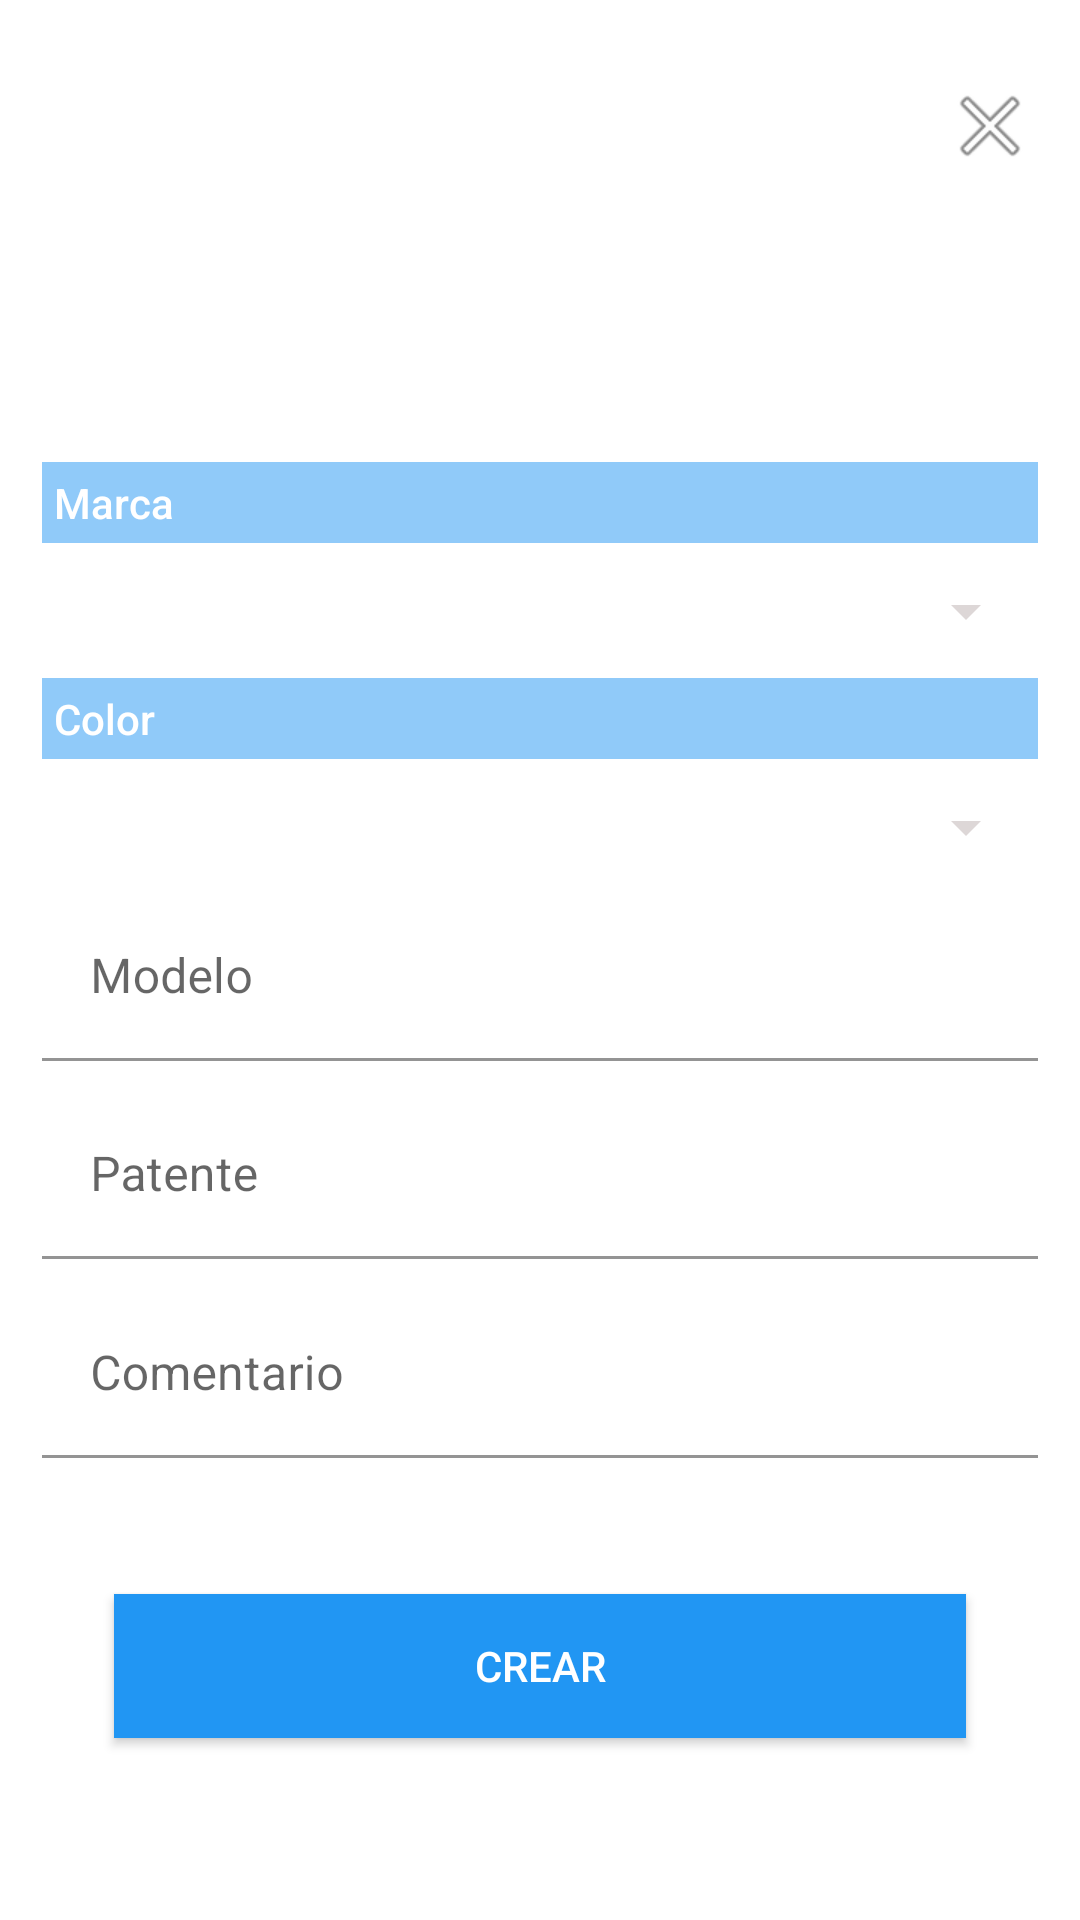

Icon click points for this 1080×1920 phone screenshot, format (x=x, y=y):
close clear cancel: (x=990, y=126)
